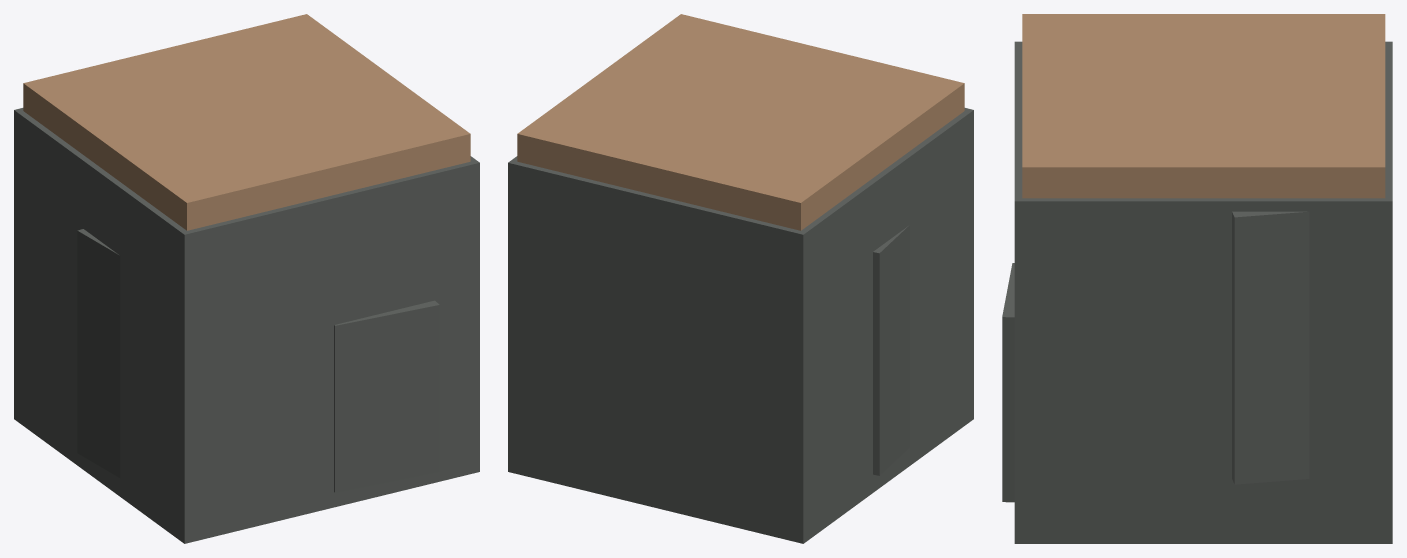
File: cliff_chunk_a.glb
The picture shows the model from 3 angles, left to right: view 1: azimuth 30°, elevation 25°; view 2: azimuth 150°, elevation 25°; view 3: azimuth 270°, elevation 25°; orthographic projection. The views are drawn at different scales.
Visible parts, largest first — view 1: cliff_main_chunk_1x1, cliff_dirt_cap, cliff_front_chip, cliff_left_chip; view 2: cliff_main_chunk_1x1, cliff_dirt_cap, cliff_left_chip; view 3: cliff_main_chunk_1x1, cliff_dirt_cap, cliff_right_chip, cliff_front_chip.
Part boxes in pixels (x1,y1,x2,y2): cliff_main_chunk_1x1: (14, 108, 479, 543); cliff_dirt_cap: (23, 14, 470, 230); cliff_front_chip: (334, 300, 439, 492); cliff_left_chip: (77, 229, 120, 477); cliff_main_chunk_1x1: (508, 108, 973, 543); cliff_dirt_cap: (517, 14, 964, 230); cliff_left_chip: (873, 225, 909, 475); cliff_main_chunk_1x1: (1014, 41, 1392, 543); cliff_dirt_cap: (1022, 14, 1385, 198); cliff_right_chip: (1232, 211, 1309, 484); cliff_front_chip: (1002, 263, 1014, 502).
Size of the model in its own units: 1.06 by 1.09 by 1.03.
